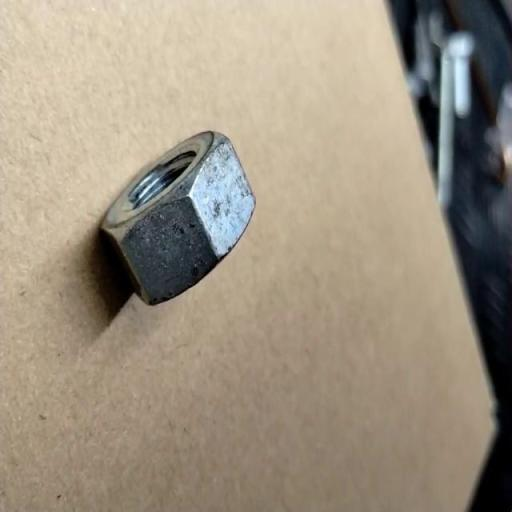Nut: (97, 130, 255, 305)
